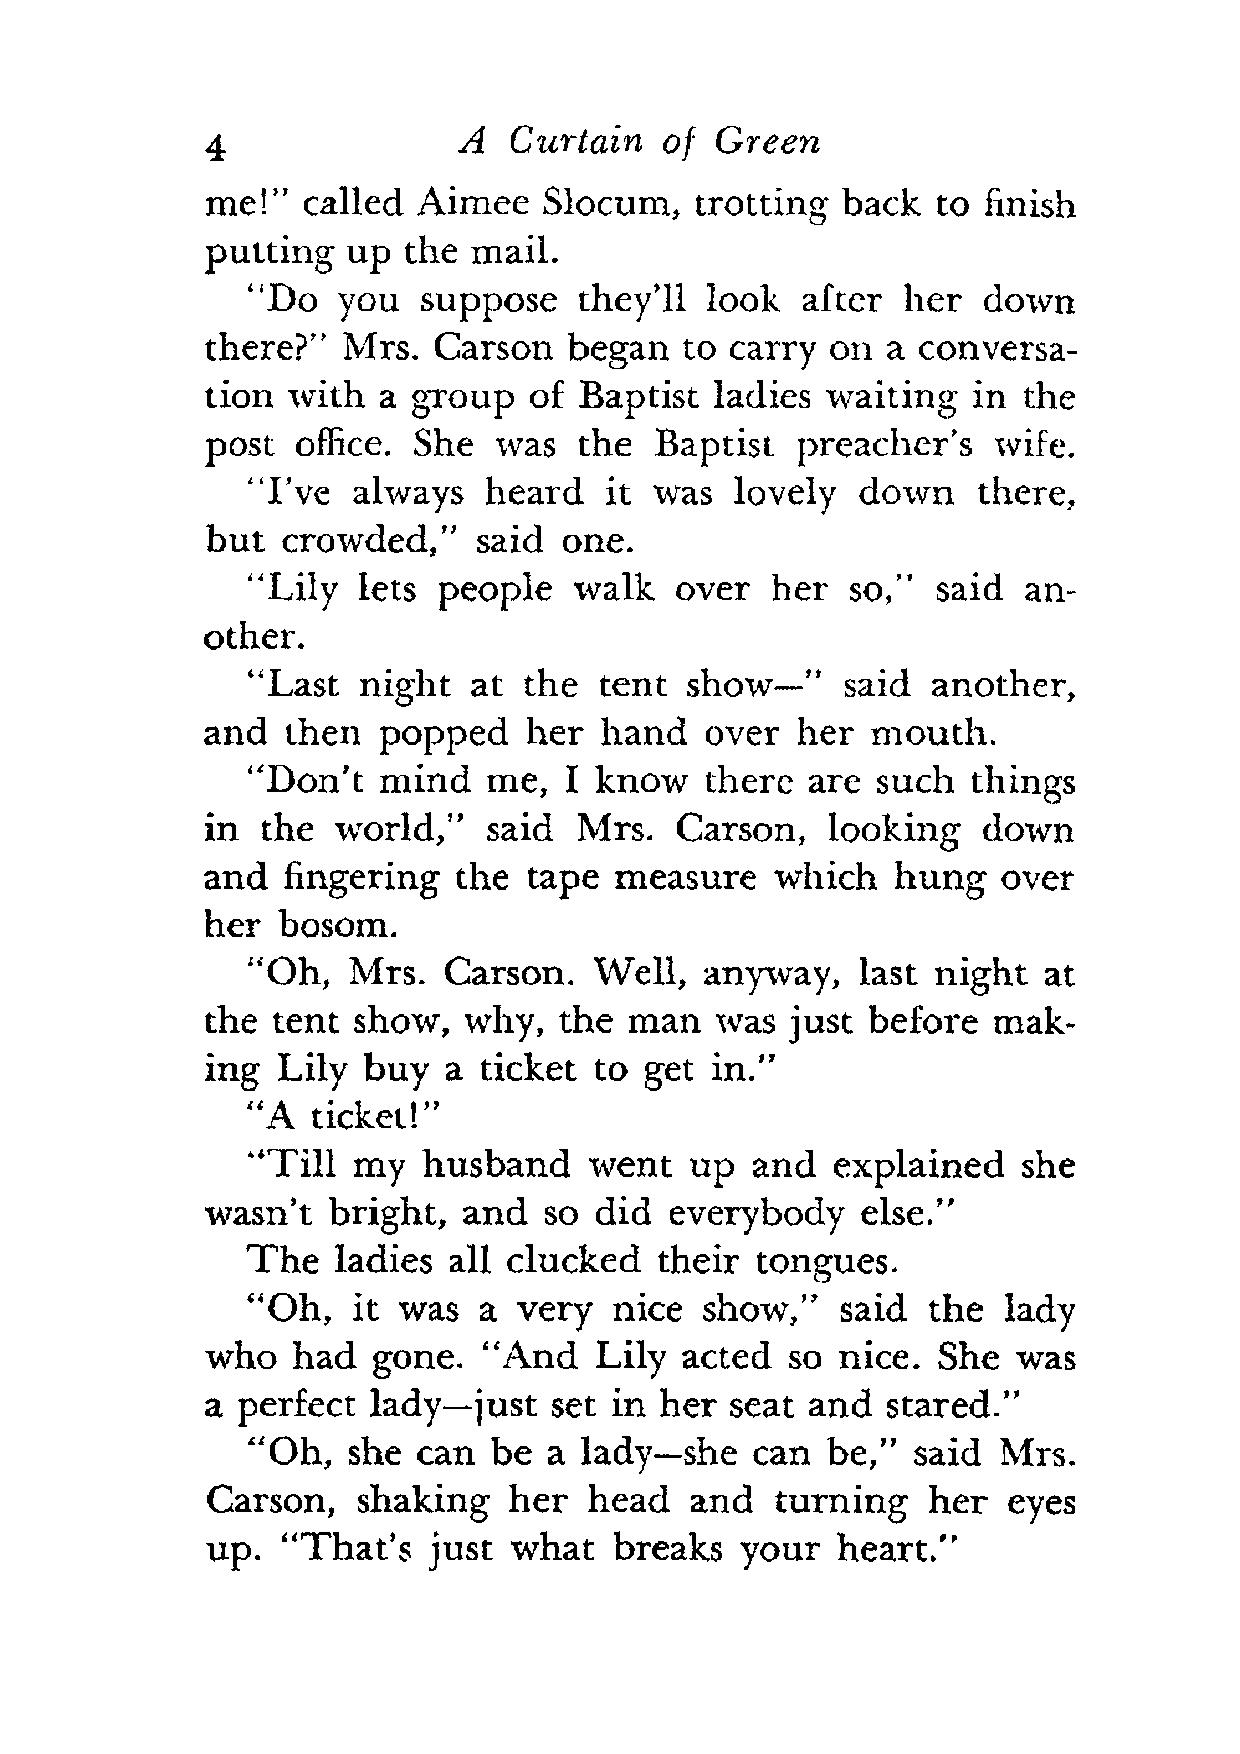content: (199, 183, 1084, 1571)
content_chapter: (452, 119, 823, 165)
content_pagenumber: (203, 132, 229, 169)
